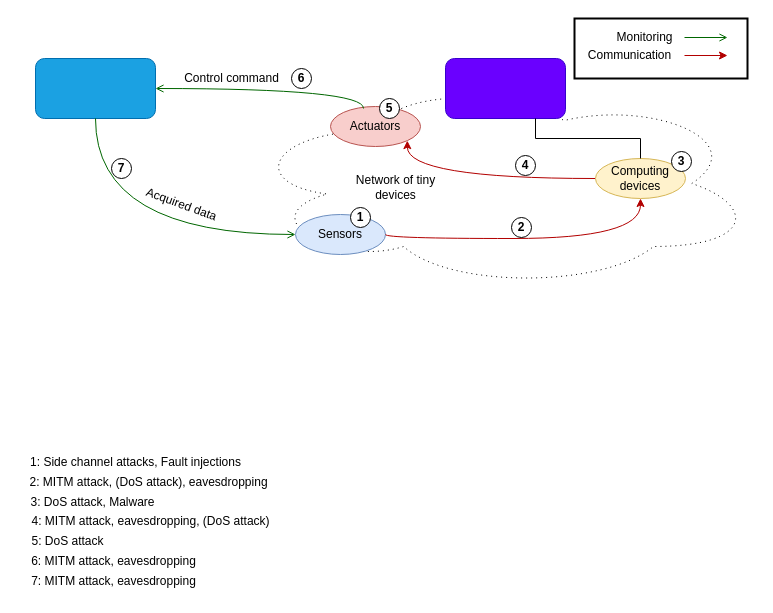
Some shapes in this 773 by 613 pixel diagram are drawn without their labels. Here are the shapes that lost their labels. From the top down, the centre of each, then its label:
point (95, 88): Physical processe(s)
point (505, 88): Cyber system
